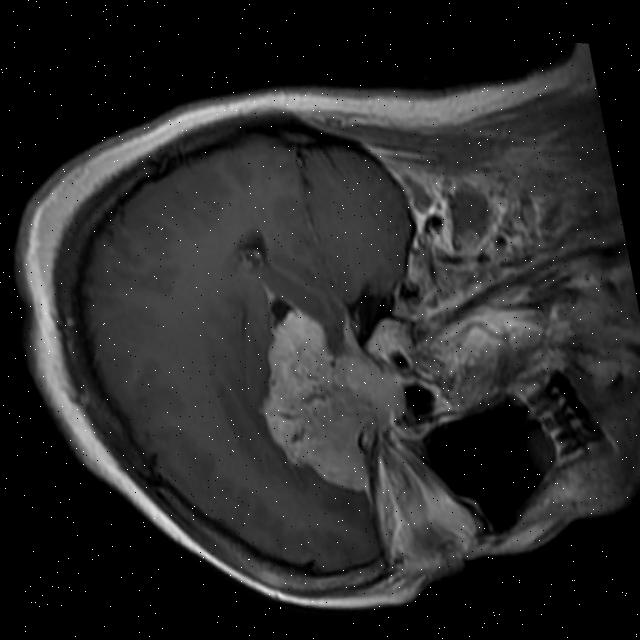Meningioma: (241, 284, 425, 512)
